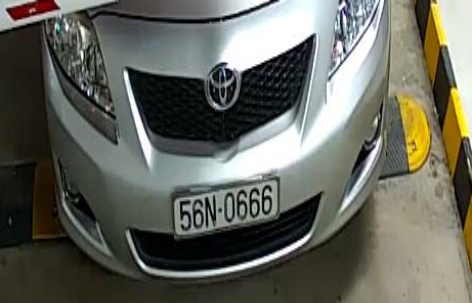plate: (169, 176, 280, 236)
